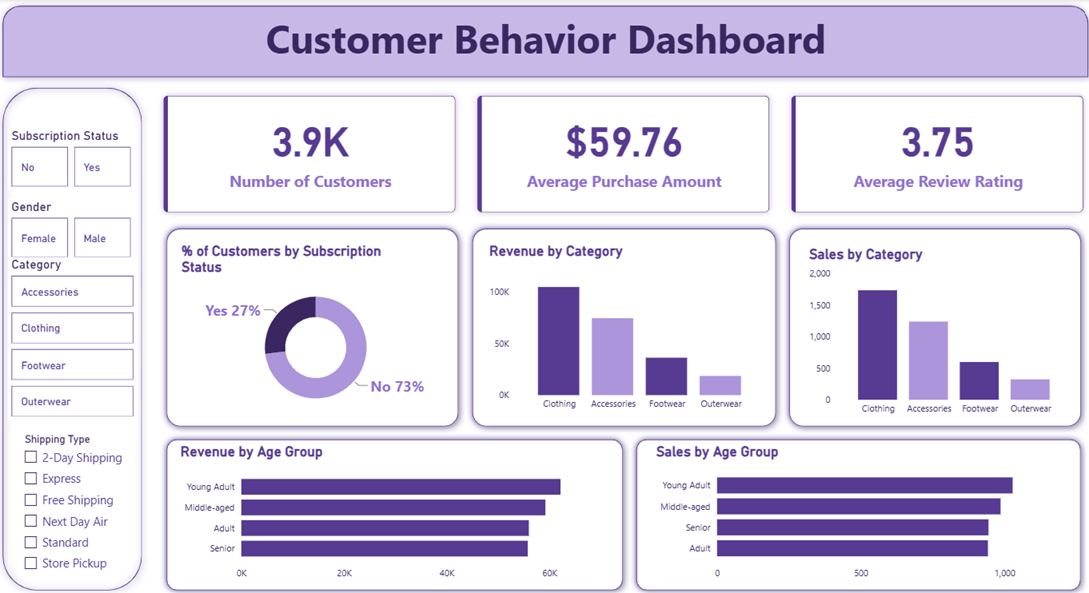

The dashboard page shown, as its layout file describes it:
{"tool":"powerbi","page":{"name":"Page 1","canvas":[1500,820],"ordinal":0},"visuals":[{"type":"cardVisual","fields":{"Data":["public customer.Number of Customers","public customer.Average Purchase Amount","public customer.Average Review Rating"]},"box":[212.9,115.3,1286.5,191.6],"z":0},{"type":"shape","box":[0,0,1499.4,115.3],"z":1000},{"type":"textbox","box":[0,12.4,1499.4,102.9],"z":2000},{"type":"shape","box":[224,592,640,224],"z":2500,"group":"g1"},{"type":"shape","box":[864,592,624,224],"z":2500,"group":"g2"},{"type":"shape","box":[224,304,416,288],"z":3000},{"type":"donutChart","title":"% of Customers by Subscription Status","fields":{"Category":["public customer.subscription_status"],"Y":["CountNonNull(public customer.customer_id)"]},"box":[248.4,331.8,376.2,237.8],"z":4000},{"type":"shape","box":[1072,304,416,288],"z":5000},{"type":"shape","box":[640,304,432,288],"z":6000},{"type":"clusteredColumnChart","title":"Revenue by Category","fields":{"Y":["Sum(public customer.purchase_amount)"],"Category":["public customer.category"]},"box":[667.2,331.8,385.1,237.8],"z":7000},{"type":"clusteredColumnChart","title":"Sales by Category","fields":{"Y":["CountNonNull(public customer.customer_id)"],"Category":["public customer.category"]},"box":[1104,336,368,240],"z":8000},{"type":"shape","box":[0,112,208,704],"z":9000},{"type":"advancedSlicerVisual","fields":{"Values":["public customer.subscription_status"]},"box":[16,176,173.9,85.2],"z":10000},{"type":"advancedSlicerVisual","fields":{"Values":["public customer.gender"]},"box":[16,272,173.9,85.2],"z":11000},{"type":"advancedSlicerVisual","fields":{"Values":["public customer.category"]},"box":[16,352,176,224],"z":12000},{"type":"slicer","fields":{"Values":["public customer.shipping_type"]},"box":[16,576,176,224],"z":13000},{"type":"group","id":"g1","title":"Group 1","box":[224,592,640,224],"z":14000},{"type":"group","id":"g2","title":"Group 1","box":[864,592,624,224],"z":17000},{"type":"clusteredBarChart","title":"Revenue by Age Group","fields":{"Y":["Sum(public customer.purchase_amount)"],"Category":["public customer.age_group"]},"box":[247.4,607.3,593.3,195.2],"z":17500,"group":"g1"},{"type":"clusteredBarChart","title":"Sales by Age Group","fields":{"Category":["public customer.age_group"],"Y":["CountNonNull(public customer.customer_id)"]},"box":[895.6,607.3,578.4,195.2],"z":17500,"group":"g2"}]}

Visuals, with their boxes in screenshot pixels (x1, y1, x2, y2), scaled from the page's 1500x820 canvas onto the 1089x593 screenshot:
cardVisual - public customer.Number of Customers x public customer.Average Purchase Amount: {"left": 155, "top": 83, "right": 1088, "bottom": 222}
shape: {"left": 0, "top": 0, "right": 1088, "bottom": 83}
textbox: {"left": 0, "top": 9, "right": 1088, "bottom": 83}
shape: {"left": 163, "top": 428, "right": 627, "bottom": 590}
shape: {"left": 627, "top": 428, "right": 1080, "bottom": 590}
shape: {"left": 163, "top": 220, "right": 465, "bottom": 428}
"% of Customers by Subscription Status" donutChart: {"left": 180, "top": 240, "right": 453, "bottom": 412}
shape: {"left": 778, "top": 220, "right": 1080, "bottom": 428}
shape: {"left": 465, "top": 220, "right": 778, "bottom": 428}
"Revenue by Category" clusteredColumnChart: {"left": 484, "top": 240, "right": 764, "bottom": 412}
"Sales by Category" clusteredColumnChart: {"left": 802, "top": 243, "right": 1069, "bottom": 417}
shape: {"left": 0, "top": 81, "right": 151, "bottom": 590}
advancedSlicerVisual - public customer.subscription_status: {"left": 12, "top": 127, "right": 138, "bottom": 189}
advancedSlicerVisual - public customer.gender: {"left": 12, "top": 197, "right": 138, "bottom": 258}
advancedSlicerVisual - public customer.category: {"left": 12, "top": 255, "right": 139, "bottom": 417}
slicer - public customer.shipping_type: {"left": 12, "top": 417, "right": 139, "bottom": 579}
"Group 1" group: {"left": 163, "top": 428, "right": 627, "bottom": 590}
"Group 1" group: {"left": 627, "top": 428, "right": 1080, "bottom": 590}
"Revenue by Age Group" clusteredBarChart: {"left": 180, "top": 439, "right": 610, "bottom": 580}
"Sales by Age Group" clusteredBarChart: {"left": 650, "top": 439, "right": 1070, "bottom": 580}
